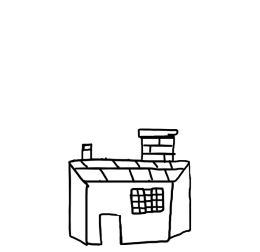bottom_placed_house: (5, 12, 260, 252)
chimney: (136, 125, 186, 171), (73, 141, 101, 167)
closed_window: (126, 185, 168, 217)
door: (96, 206, 127, 248)
roof: (59, 155, 196, 185)
small_house: (0, 3, 260, 252)
wall: (81, 178, 175, 249)
